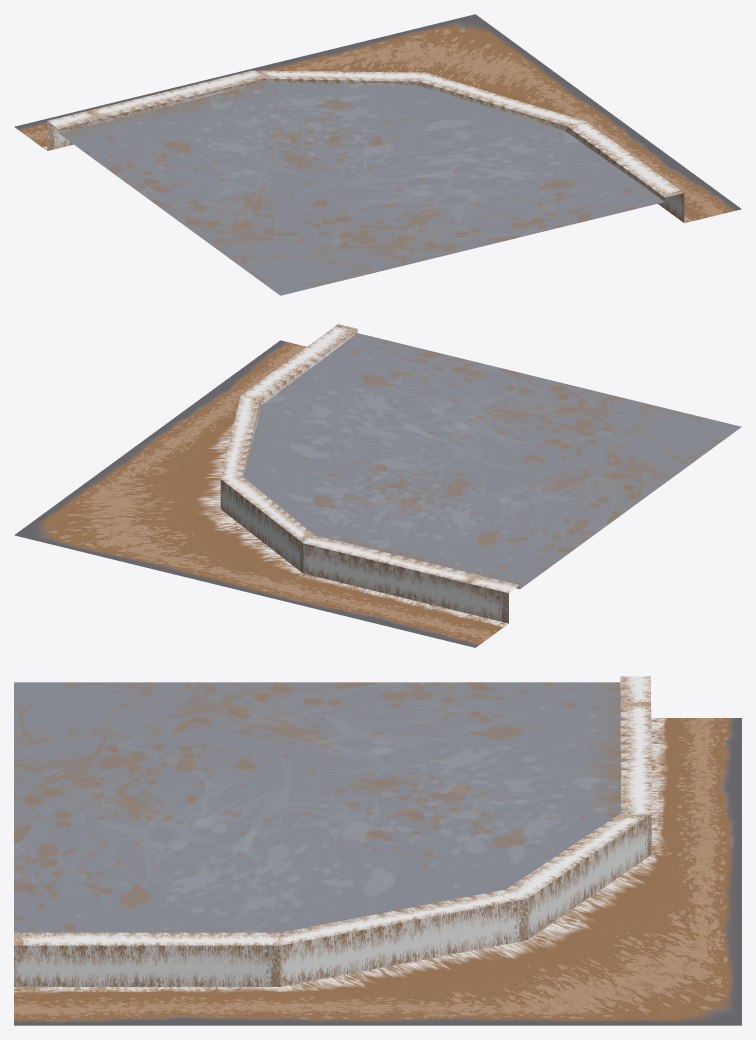
Rendered from Sidewalk_Corner_01.fbx.
The picture shows the model from 3 angles, top to bottom: view 1: azimuth 30°, elevation 25°; view 2: azimuth 150°, elevation 25°; view 3: azimuth 270°, elevation 25°; orthographic projection. The views are drawn at different scales.
Visible parts, largest first — view 1: Sidewalk_Corner_01; view 2: Sidewalk_Corner_01; view 3: Sidewalk_Corner_01.
Boxes of the visible parts, x1,y1,x2,y2 form: Sidewalk_Corner_01: (14, 14, 741, 295); Sidewalk_Corner_01: (14, 324, 741, 647); Sidewalk_Corner_01: (14, 676, 741, 1025).
Size of the model in its own units: 250 by 15.7 by 250.
